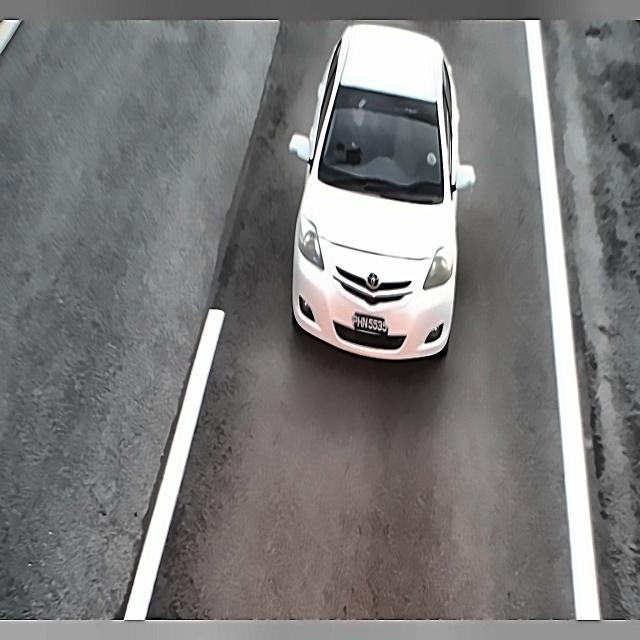car: (348, 309, 393, 338)
